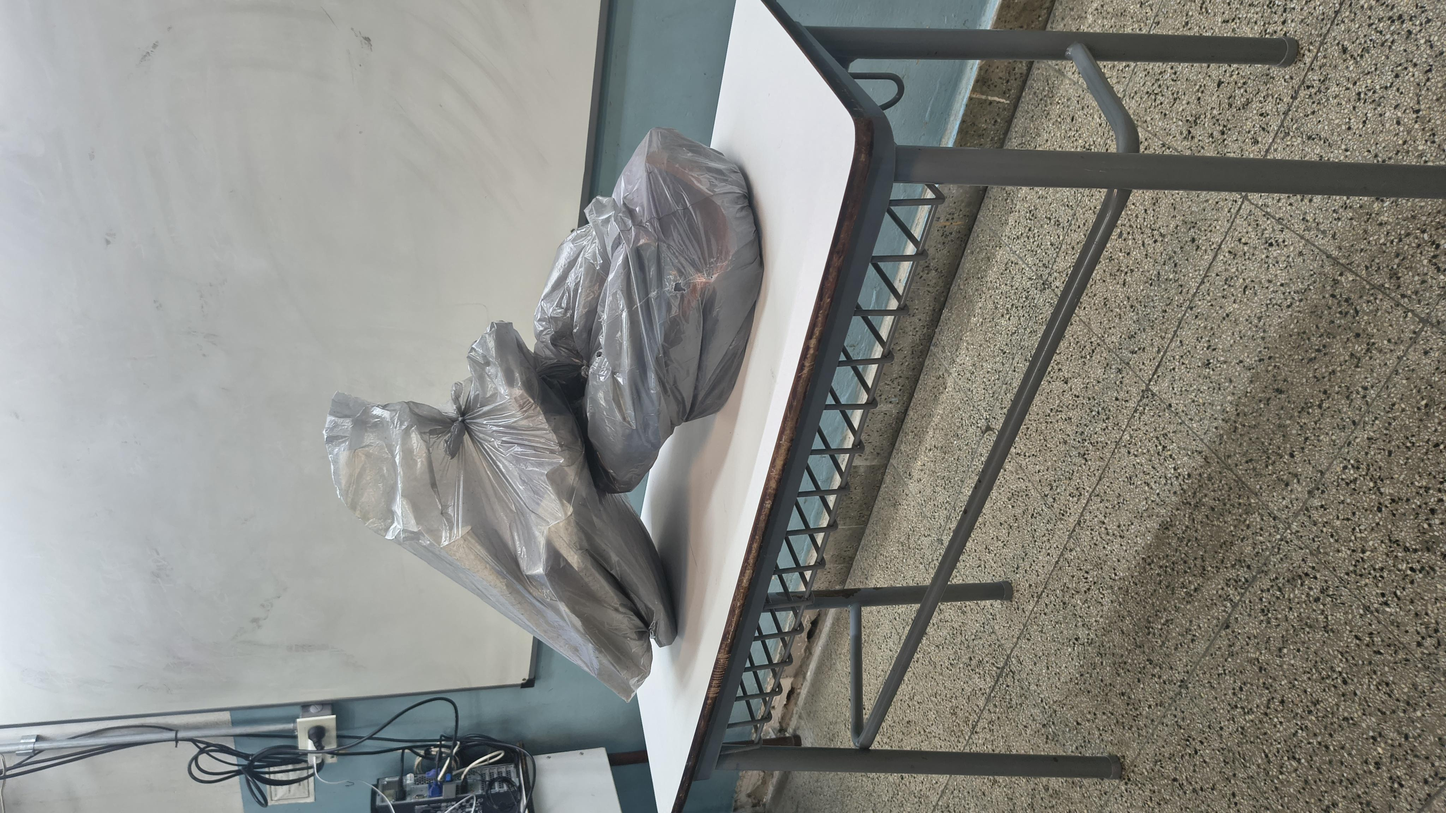Garbage: (163, 169, 885, 393), (540, 282, 1243, 429)
